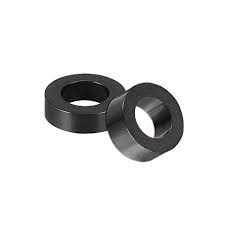No thread: (131, 92, 175, 141), (55, 75, 115, 110)
